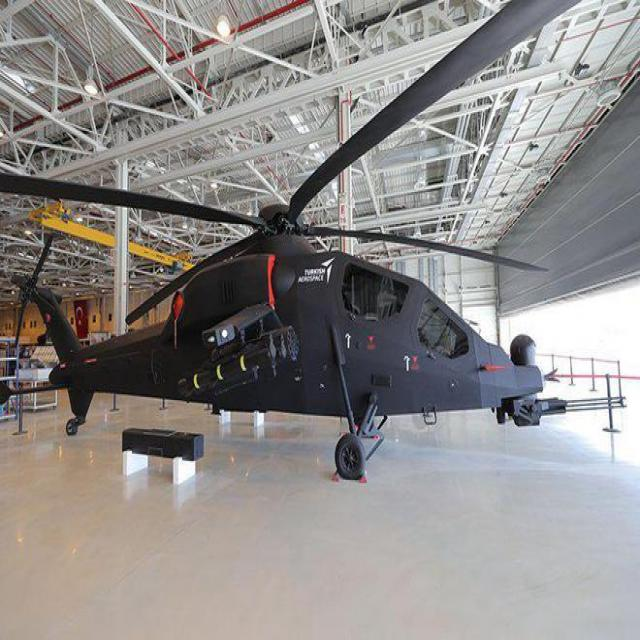MIL_HELO: (0, 0, 640, 481)
